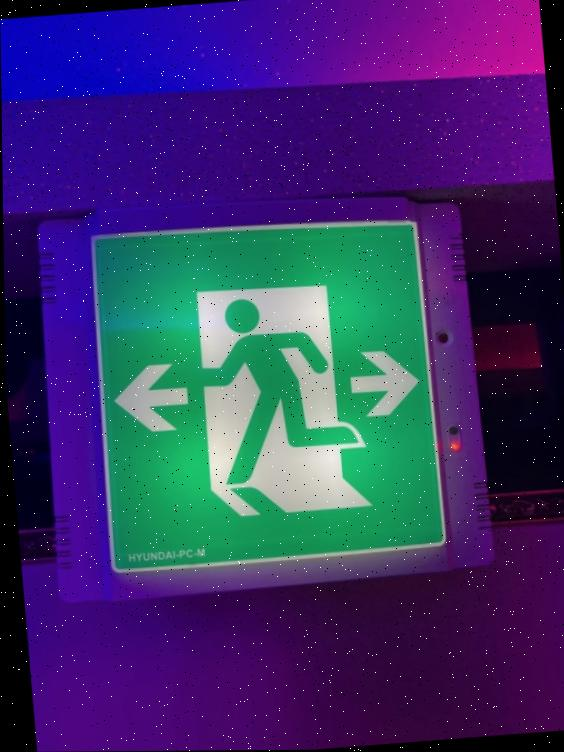emergency_exit: (90, 216, 452, 580)
